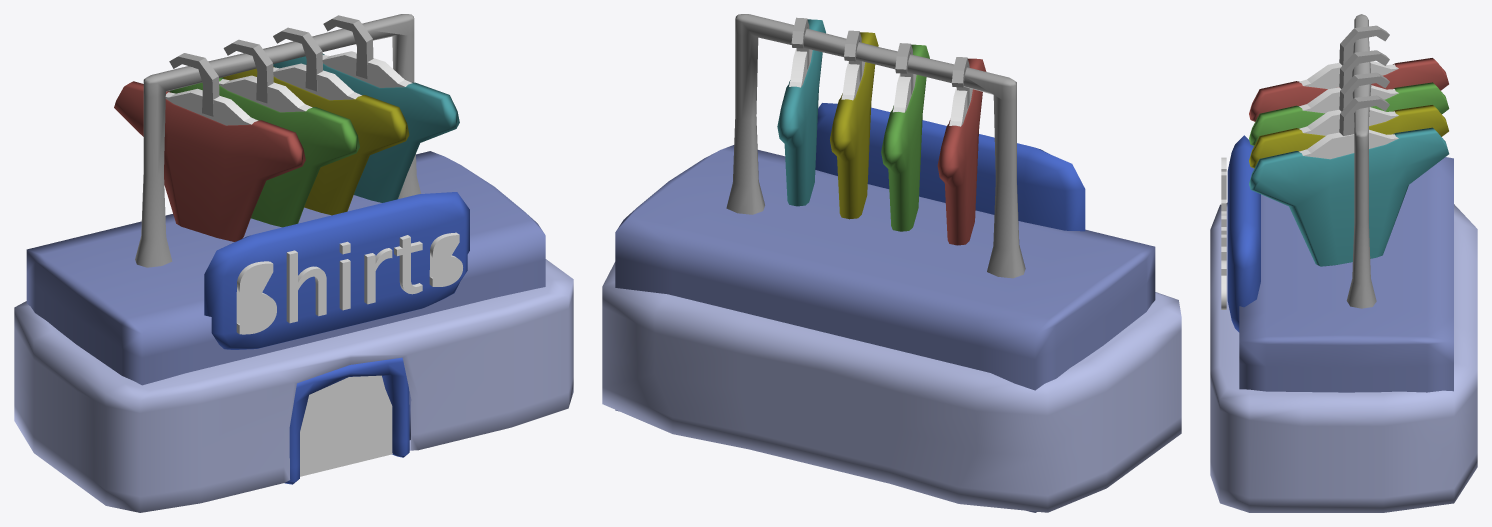
Rendered from Shirtsmodel.fbx.
The picture shows the model from 3 angles, left to right: view 1: azimuth 30°, elevation 25°; view 2: azimuth 150°, elevation 25°; view 3: azimuth 270°, elevation 25°; orthographic projection. The views are drawn at different scales.
Visible parts, largest first — view 1: pCube40, pCube36, pCube37, pCube23, pCube35, typeMesh1, pCube39, pCube28, pCube34, pCube31, pCube38, pCube24 (+7 smaller); view 2: pCube40, pCube36, pCube35, pCube37, pCube31, pCube28, pCube34, pCube23; view 3: pCube40, pCube36, pCube34, pCube37, pCube35, pCube23, pCube31, pCube28, pCube33, pCube30, pCube24, typeMesh1 (+5 smaller).
Part boxes in pixels (x1,y1,x2,y2): pCube40: (14, 259, 573, 512); pCube36: (26, 151, 545, 439); pCube37: (204, 192, 469, 349); pCube23: (114, 81, 305, 241); pCube35: (135, 14, 420, 267); typeMesh1: (236, 232, 462, 334); pCube39: (300, 375, 392, 476); pCube28: (169, 77, 359, 227); pCube34: (273, 53, 459, 202); pCube31: (223, 66, 409, 215); pCube38: (284, 357, 409, 484); pCube24: (165, 88, 258, 125); pCube40: (602, 262, 1181, 512); pCube36: (615, 145, 1155, 512); pCube35: (726, 14, 1025, 278); pCube37: (815, 103, 1085, 231); pCube31: (830, 32, 878, 219); pCube28: (881, 44, 929, 231); pCube34: (777, 19, 825, 206); pCube23: (937, 58, 986, 245); pCube40: (1210, 202, 1477, 512); pCube36: (1239, 157, 1453, 392); pCube34: (1249, 127, 1449, 266); pCube37: (1227, 135, 1260, 332); pCube35: (1346, 14, 1376, 308); pCube23: (1249, 58, 1448, 121); pCube31: (1249, 105, 1448, 168); pCube28: (1249, 82, 1449, 145); pCube33: (1299, 129, 1398, 159); pCube30: (1299, 107, 1398, 135); pCube24: (1299, 61, 1398, 89); typeMesh1: (1221, 157, 1226, 309).
Bounding box in the file's own units: 14.94 × 11.46 × 7.97.
